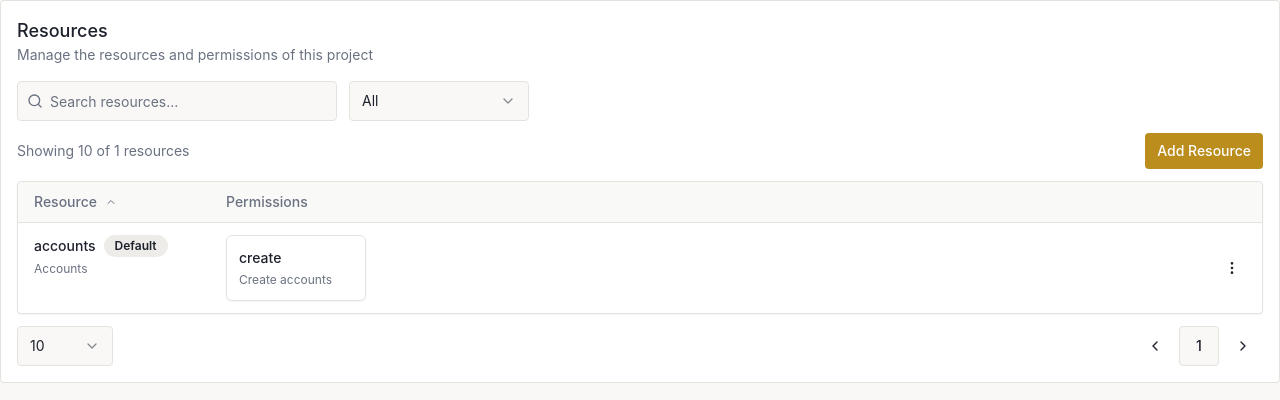
ResourcesTab › renders resources and permission cards and hides Remove for default resource
Expected: the button "accounts" is shown, [34,236,96,256]
Expected: the heading "Resources" is shown, [17,20,108,41]
Click the 4th button at coordinates (1232, 268), box [1218,254,1246,282]
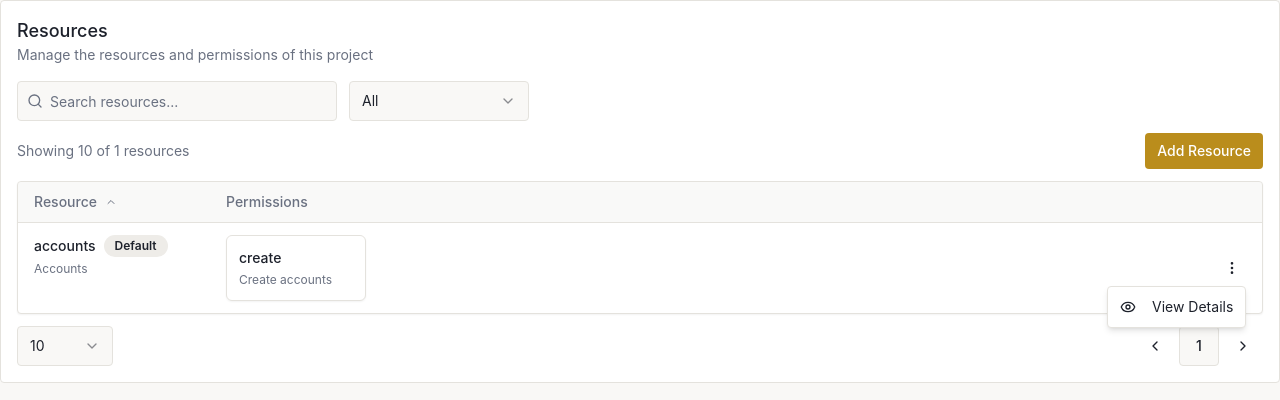
Now the menu item "View Details" is shown, box [1120,298,1233,315]
